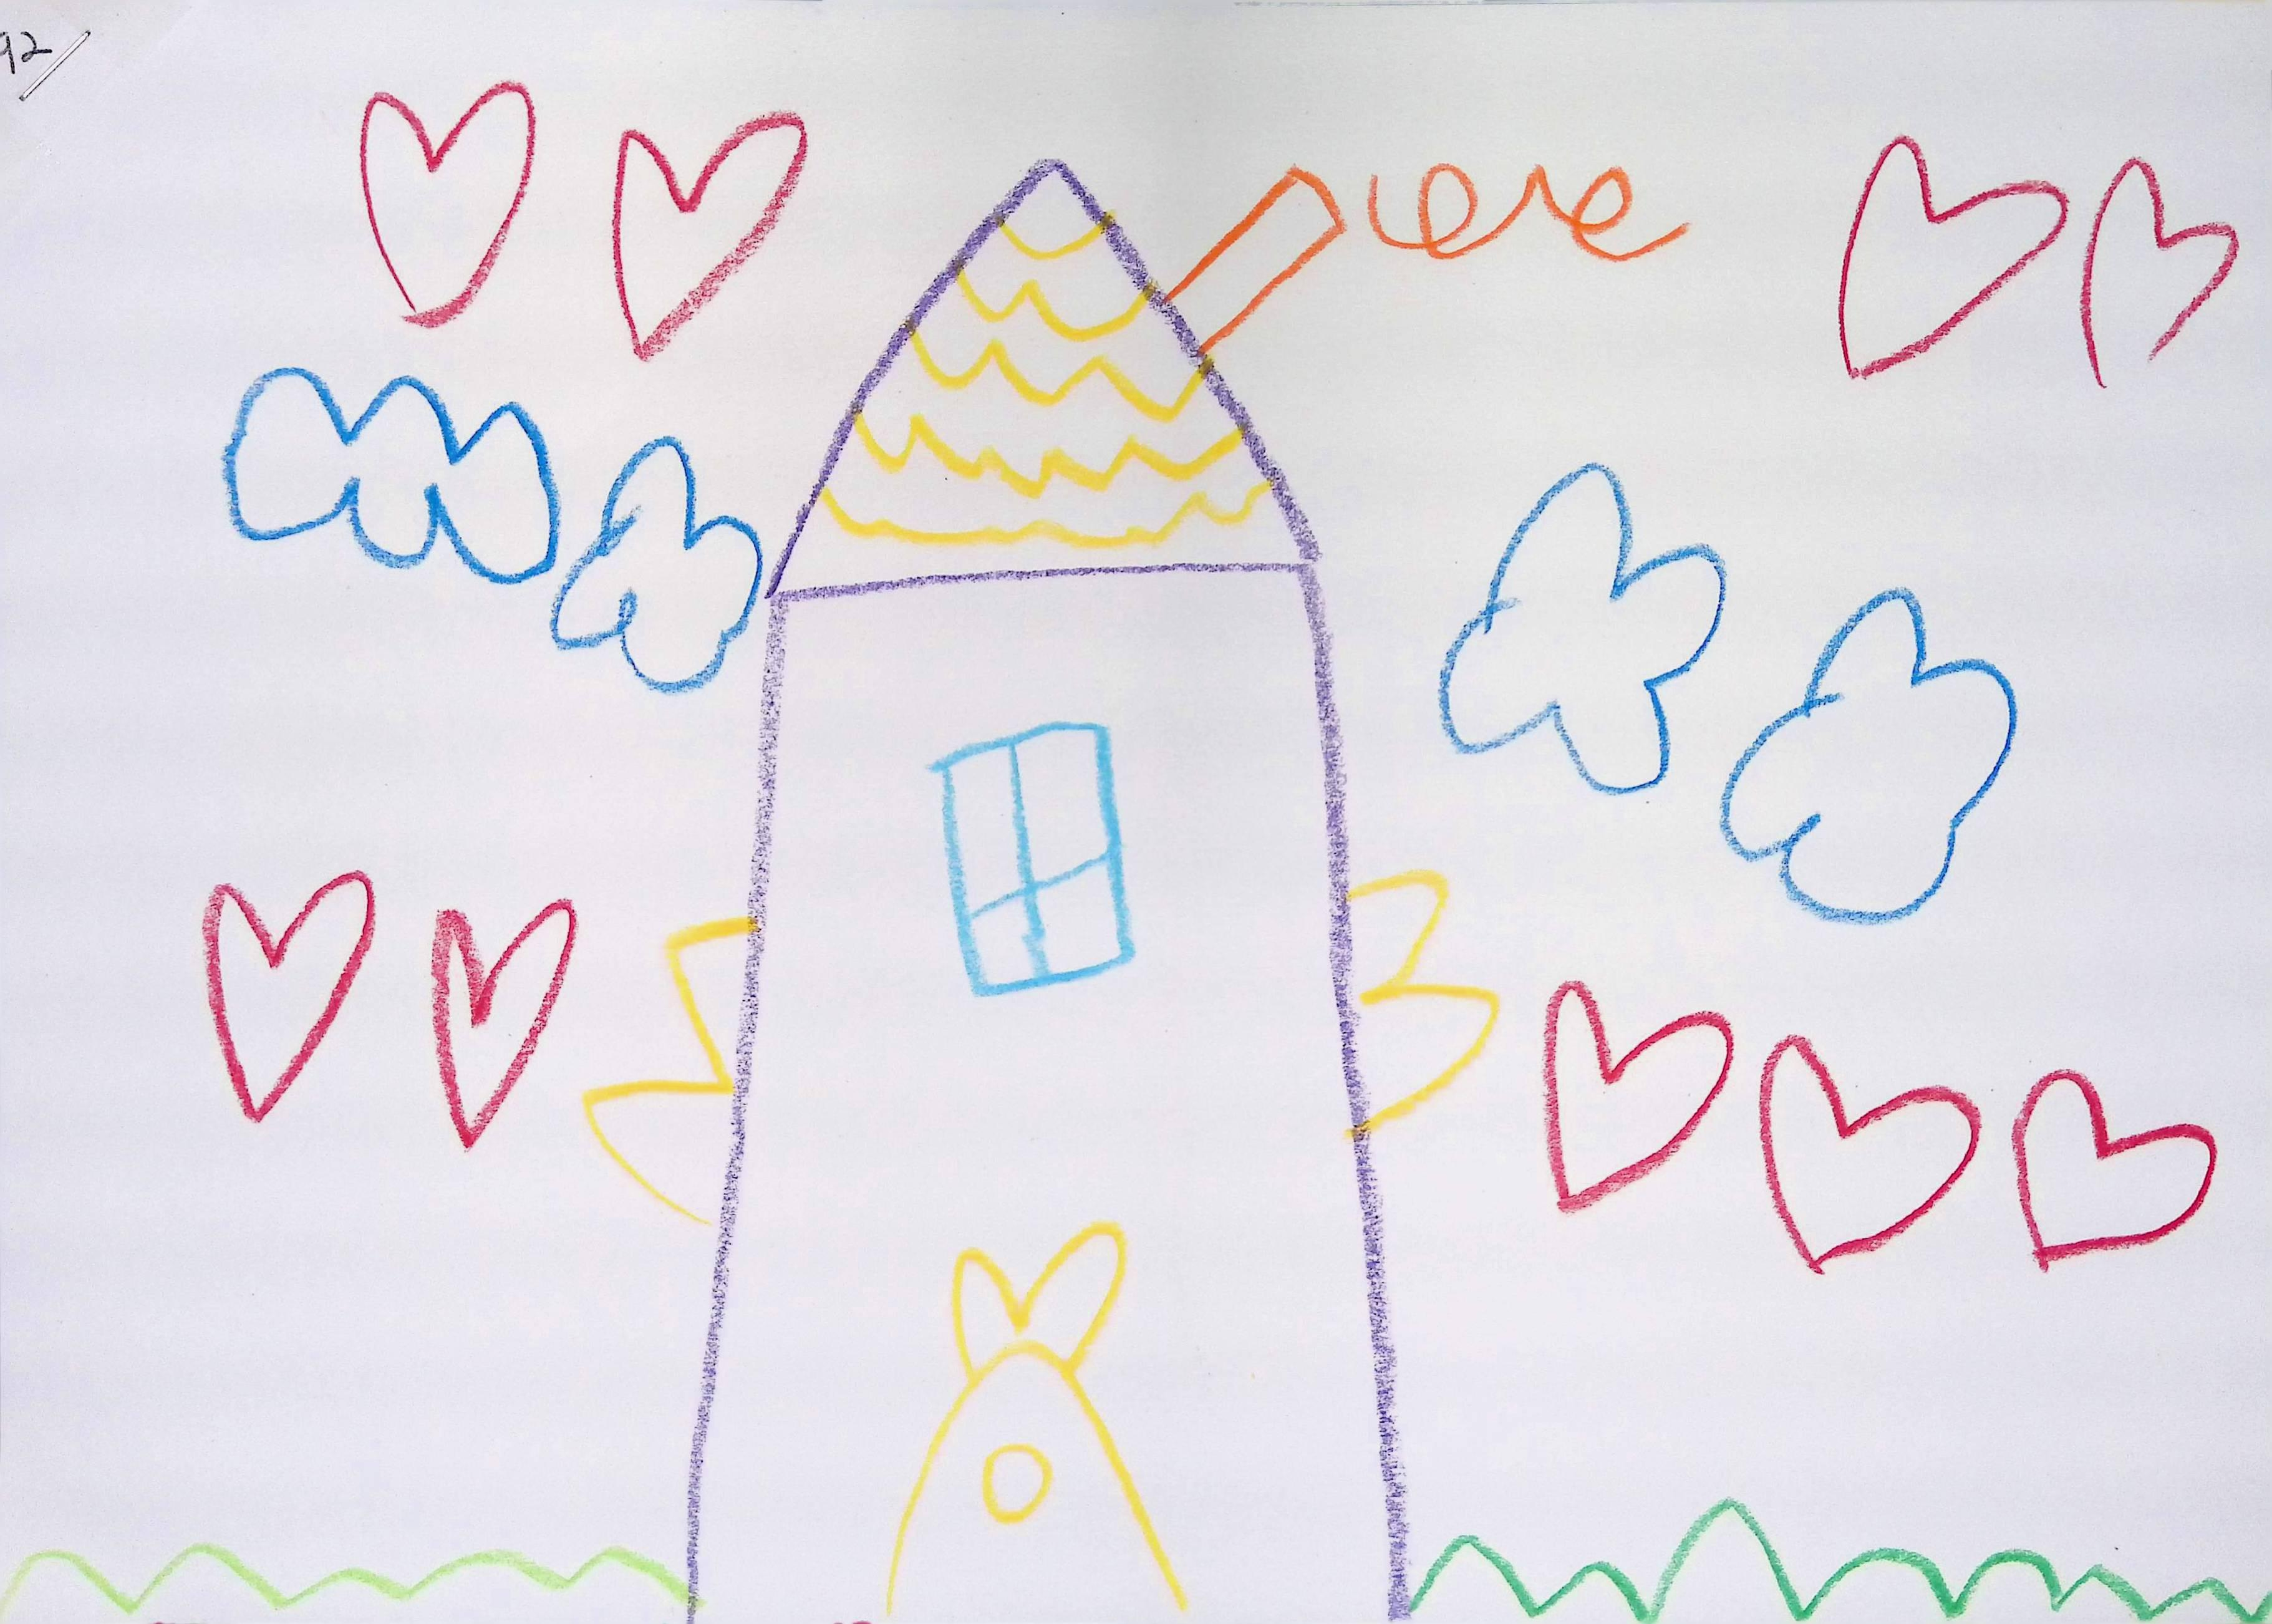chimney: (1169, 165, 1346, 348)
door: (887, 1341, 1186, 1622)
house: (692, 160, 1400, 1620)
roof: (771, 160, 1321, 605)
wall: (671, 571, 1415, 1624)
window: (931, 722, 1133, 995)
